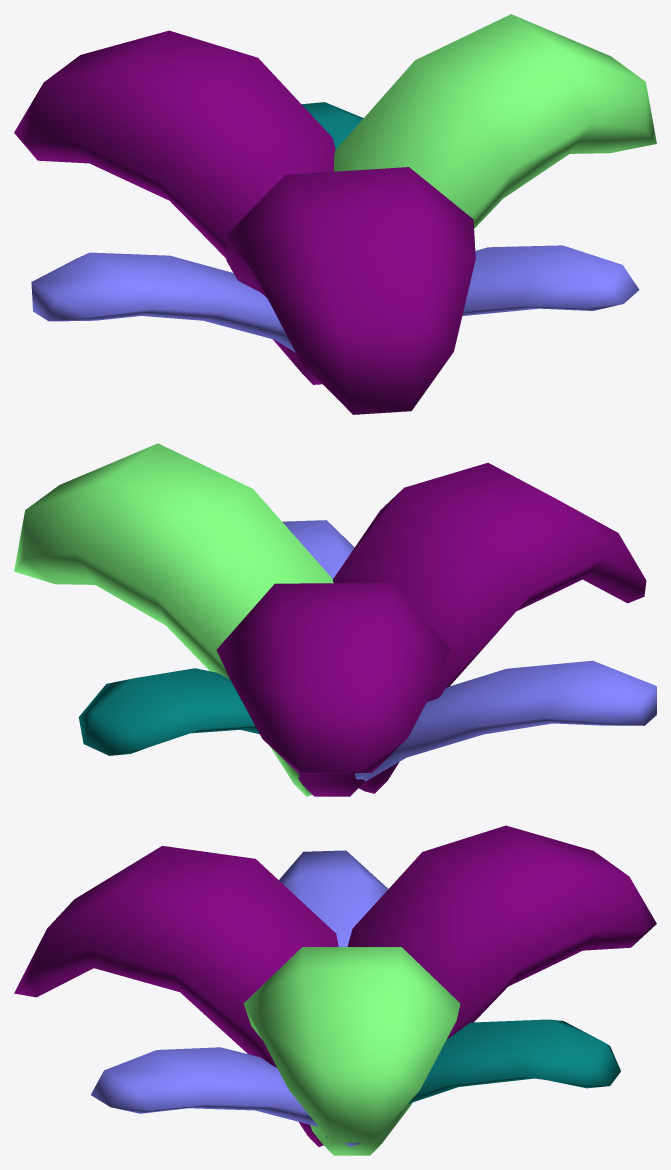
File: Grass02.0.fbx
3 renders of one model, top to bottom at view 1: azimuth 30°, elevation 25°; view 2: azimuth 150°, elevation 25°; view 3: azimuth 270°, elevation 25°, orthographic. The views are drawn at different scales.
Visible parts, largest first — view 1: Low_Grass020; view 2: Low_Grass020; view 3: Low_Grass020.
Part boxes in pixels (box(x1,y1,x2,y2)): Low_Grass020: box(14, 14, 656, 414); Low_Grass020: box(14, 443, 656, 796); Low_Grass020: box(14, 825, 656, 1155).
Size of the model in its own units: 811 by 358 by 767.
